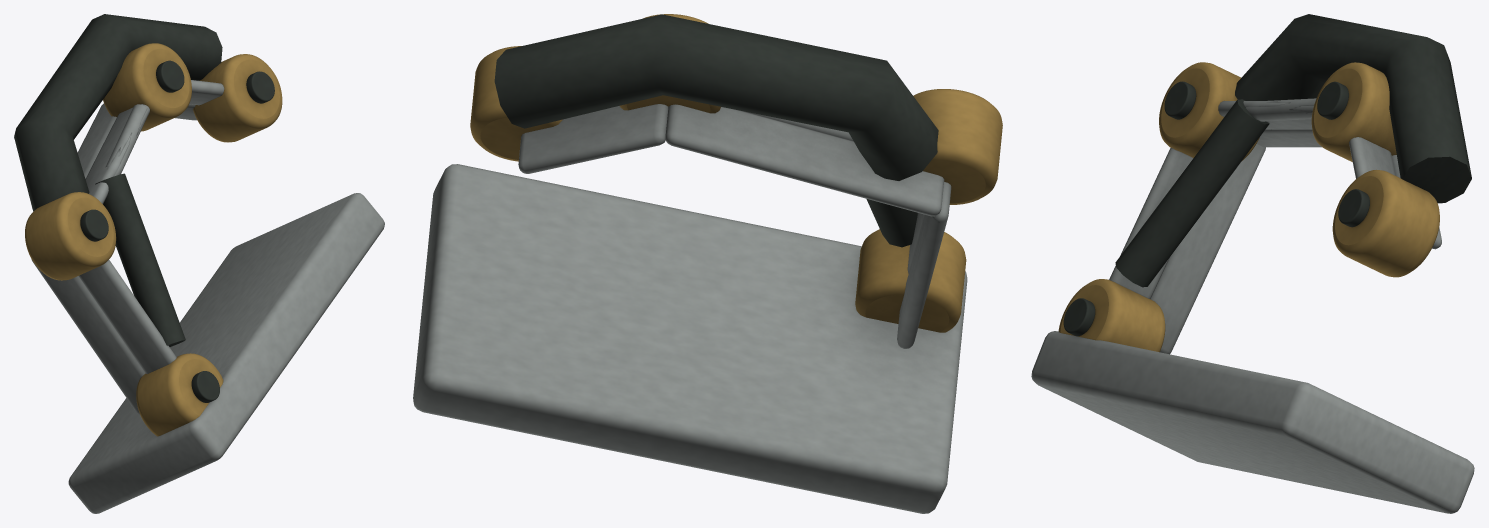
The picture shows the model from 3 angles, left to right: view 1: azimuth 30°, elevation 25°; view 2: azimuth 150°, elevation 25°; view 3: azimuth 270°, elevation 25°; orthographic projection. The views are drawn at different scales.
Parts seen in each view (by area): view 1: Arm installation foot; view 2: Arm installation foot; view 3: Arm installation foot.
Boxes of the visible parts, <box> form: Arm installation foot: <box>14,14,384,513</box>; Arm installation foot: <box>413,14,1002,513</box>; Arm installation foot: <box>1031,14,1474,513</box>.
Size of the model in its own units: 1.19 by 1.19 by 0.9888.
1 material, 1 textured.
